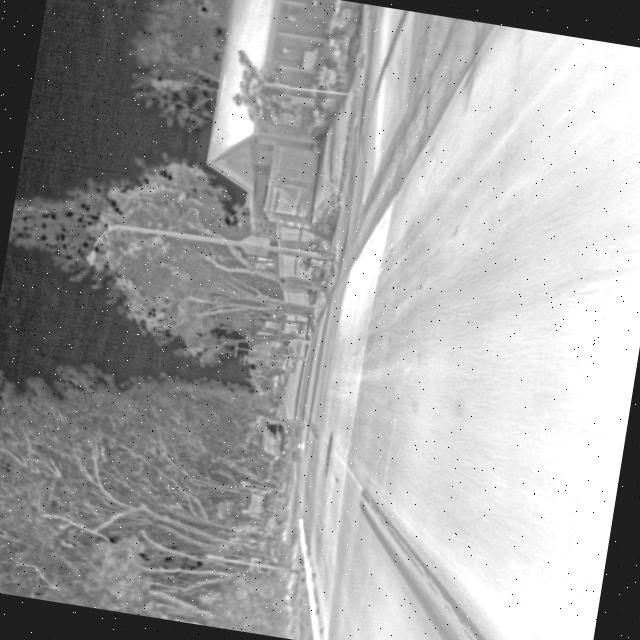Vehicle: (256, 413, 312, 466)
